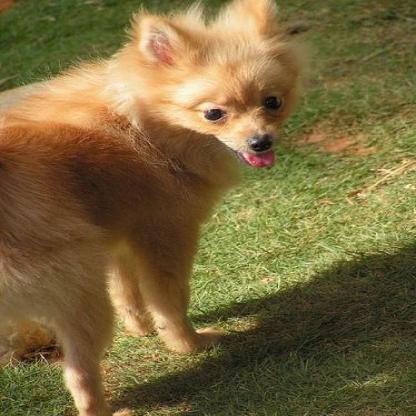Pomeranian: (0, 0, 313, 414)
